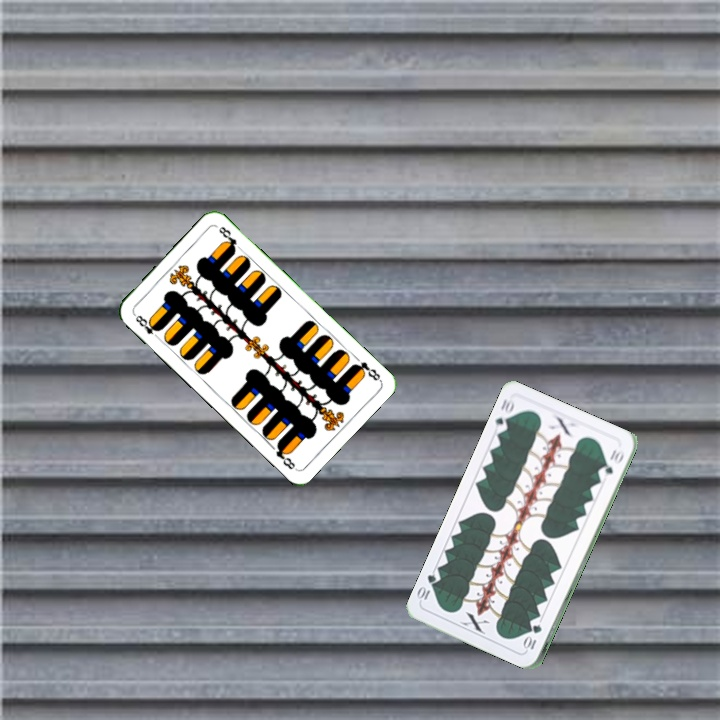E8: (130, 310, 163, 342), (349, 357, 383, 383)
G10: (491, 395, 517, 435), (522, 620, 544, 653)
